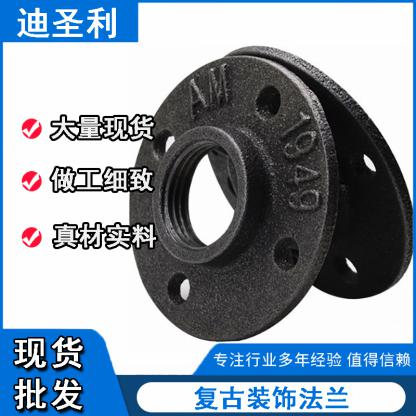FOD: (122, 53, 342, 348), (203, 37, 416, 302)
